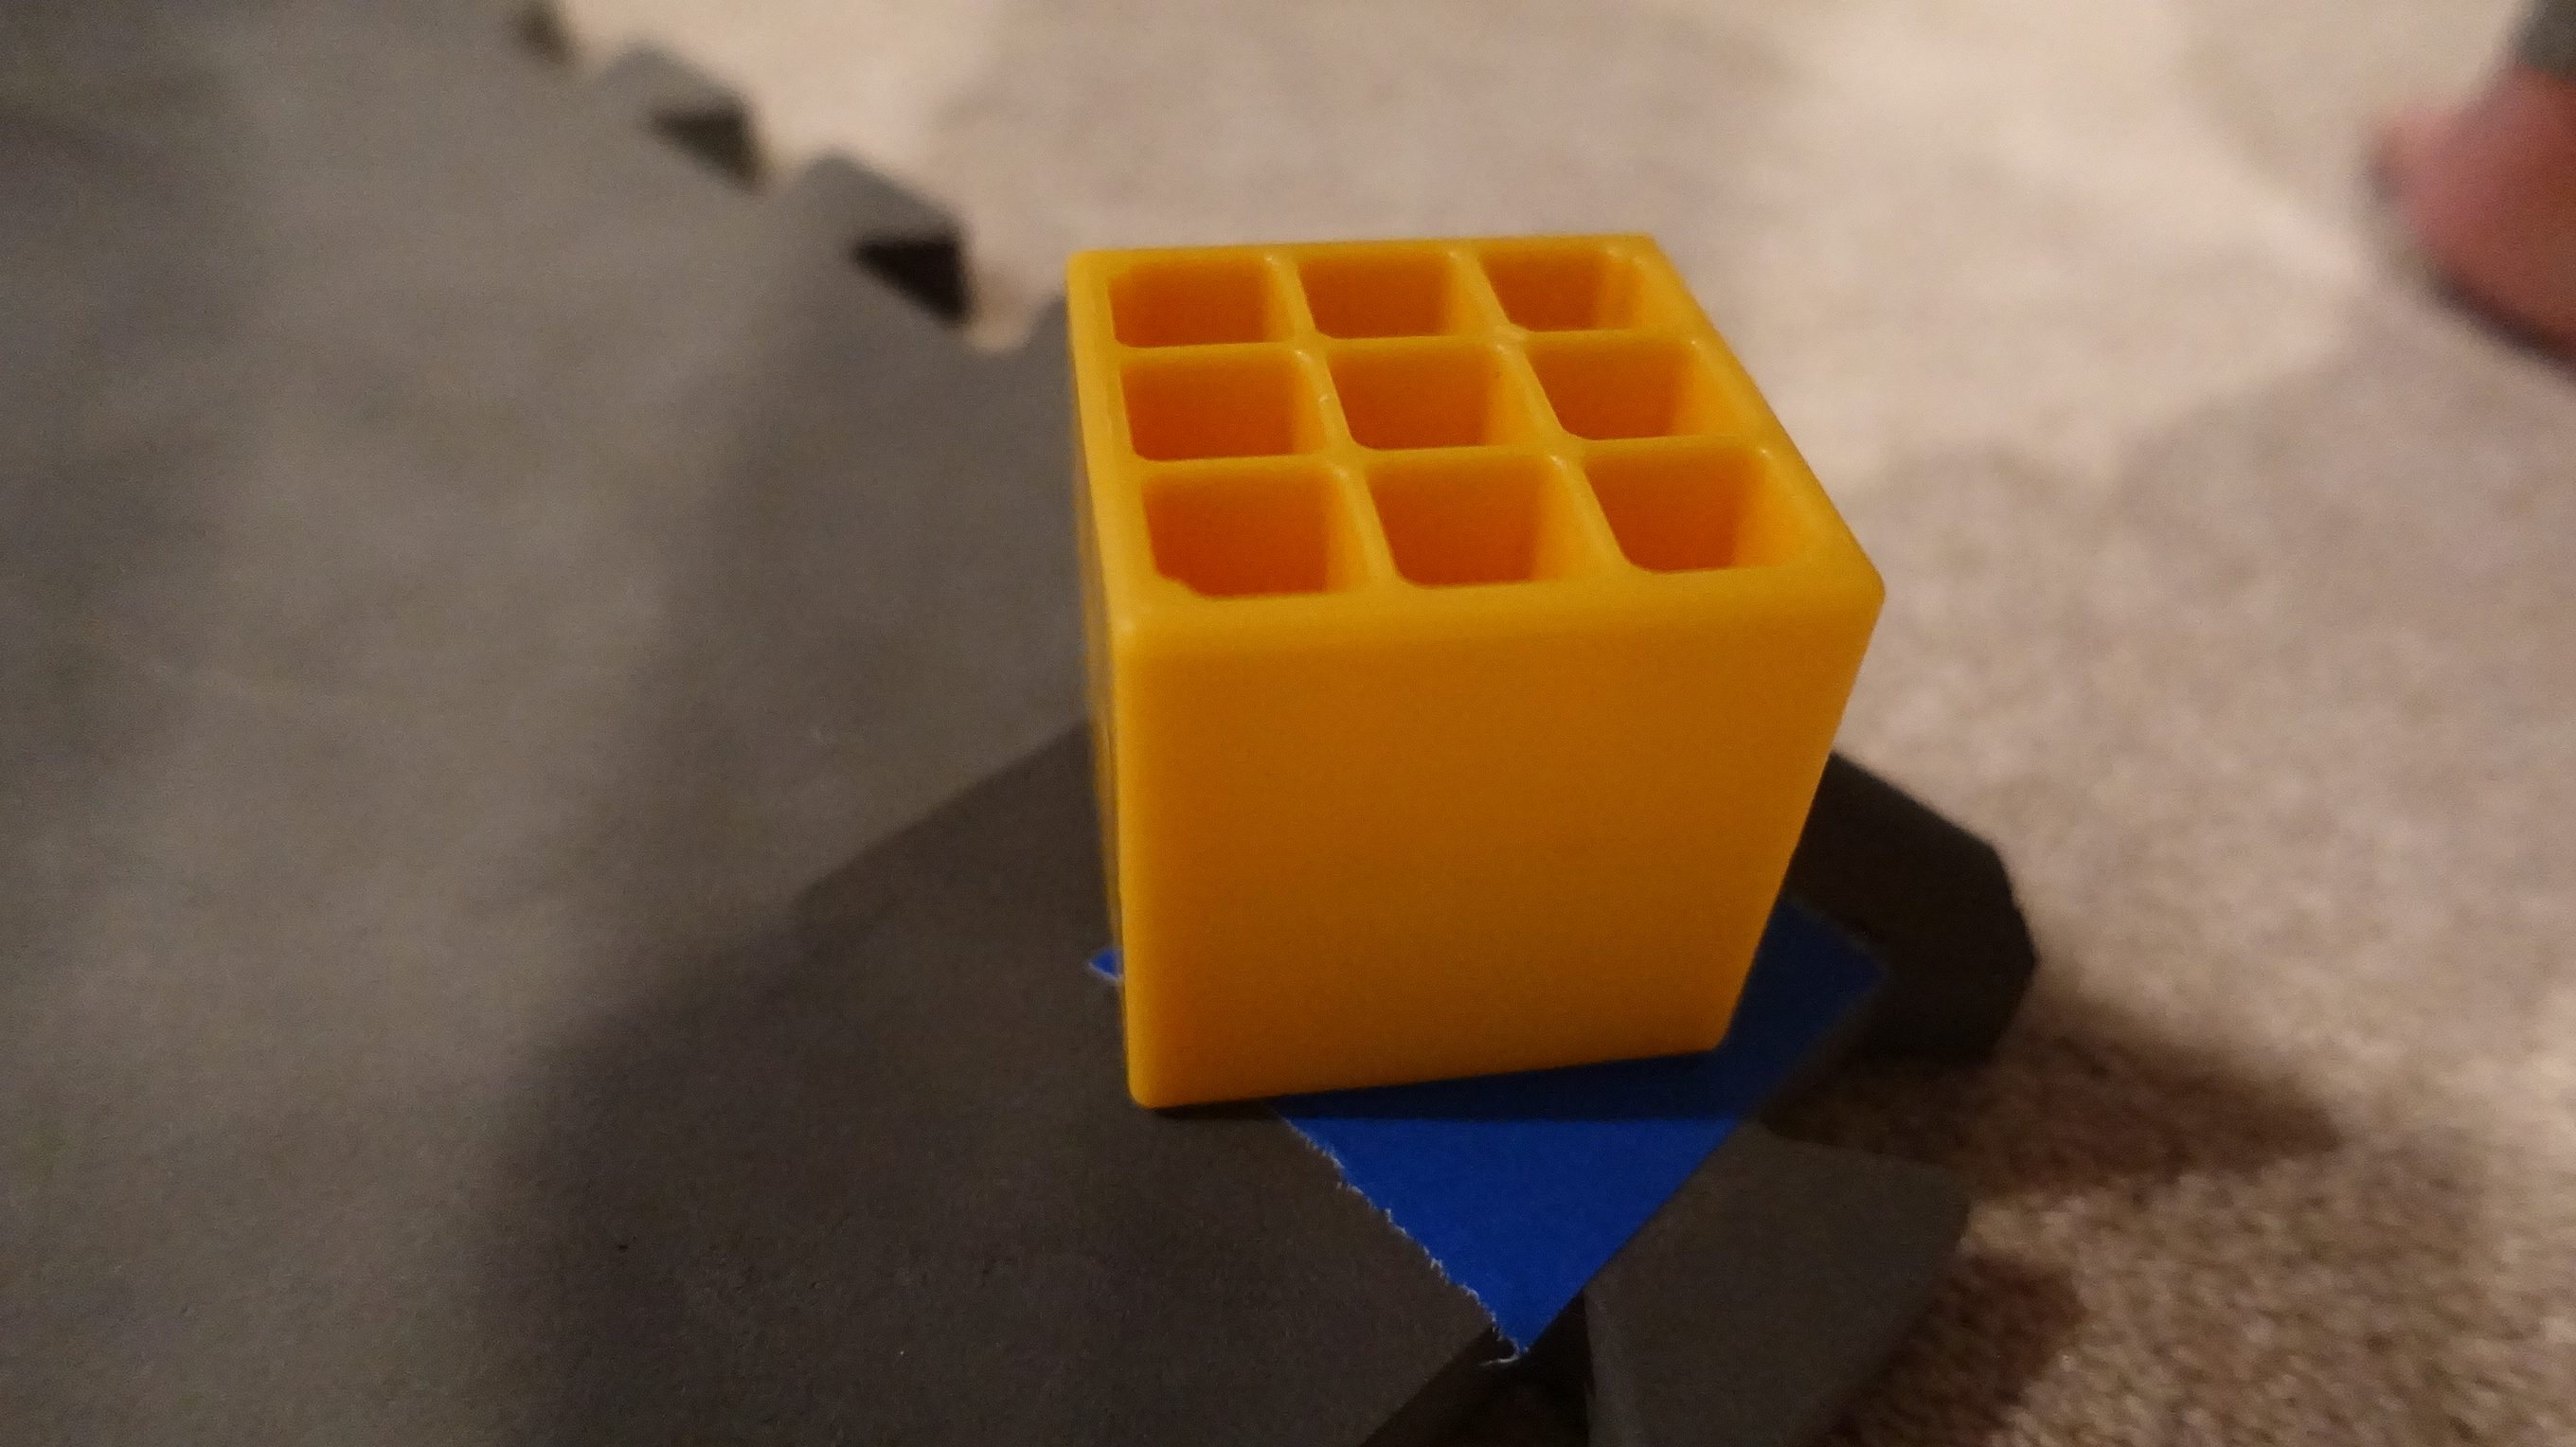gold: (1054, 203, 1895, 1111)
